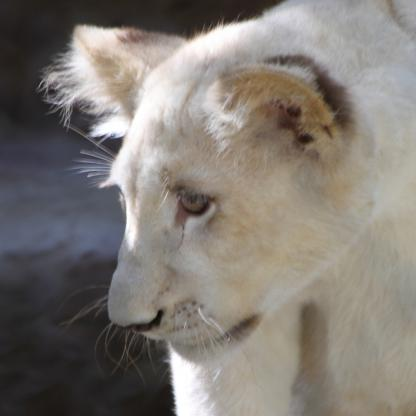lion: (58, 30, 348, 356)
